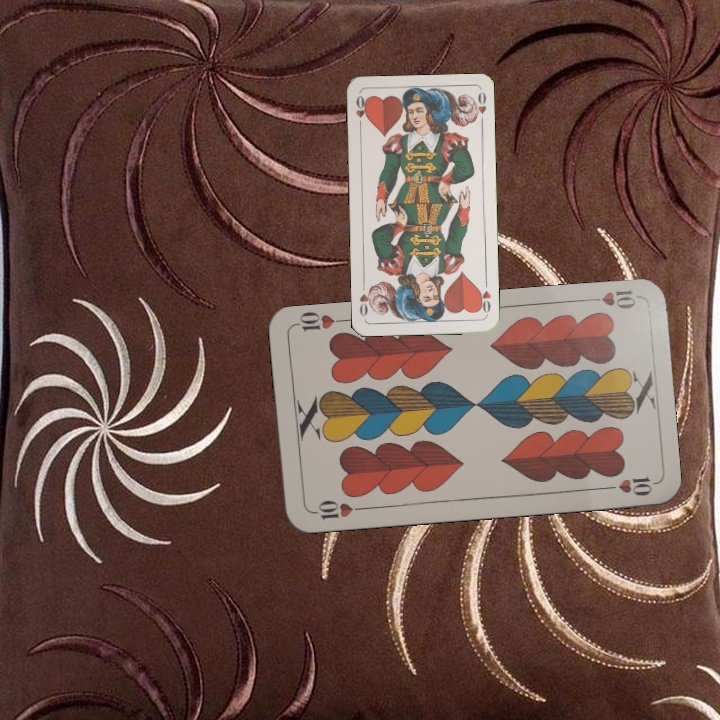H10: (307, 496, 366, 522), (581, 286, 638, 312)
HO: (475, 276, 493, 317), (351, 92, 369, 131)
